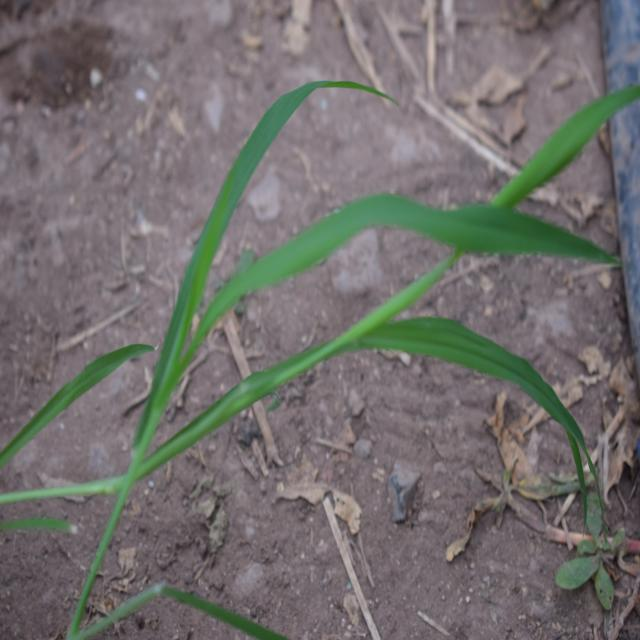crabgrass: (106, 62, 610, 504)
